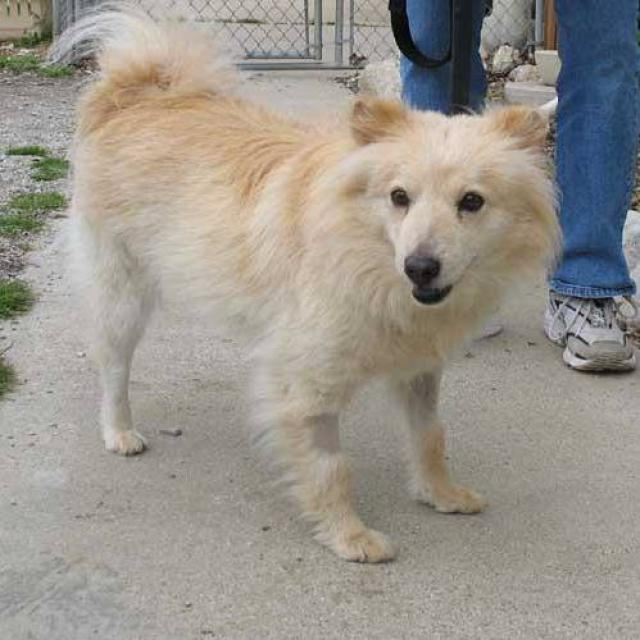dog: (44, 4, 563, 564)
